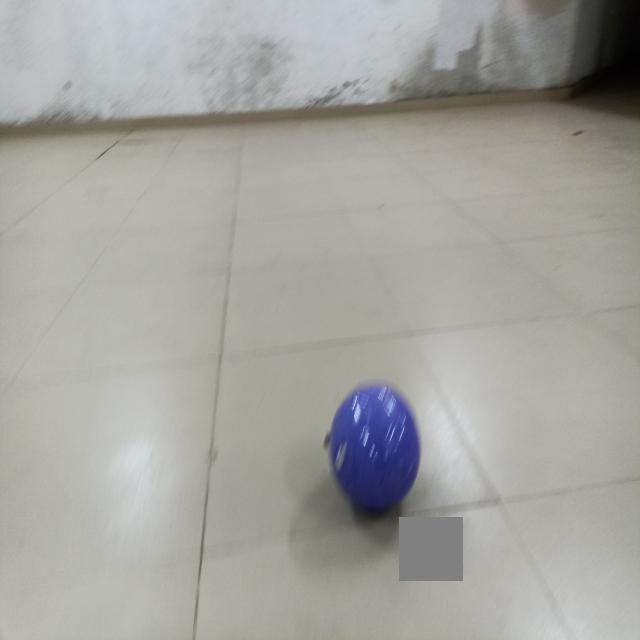purple_ball: (324, 378, 427, 515)
